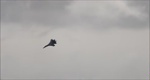maybay_muctieu: (41, 37, 58, 49)
